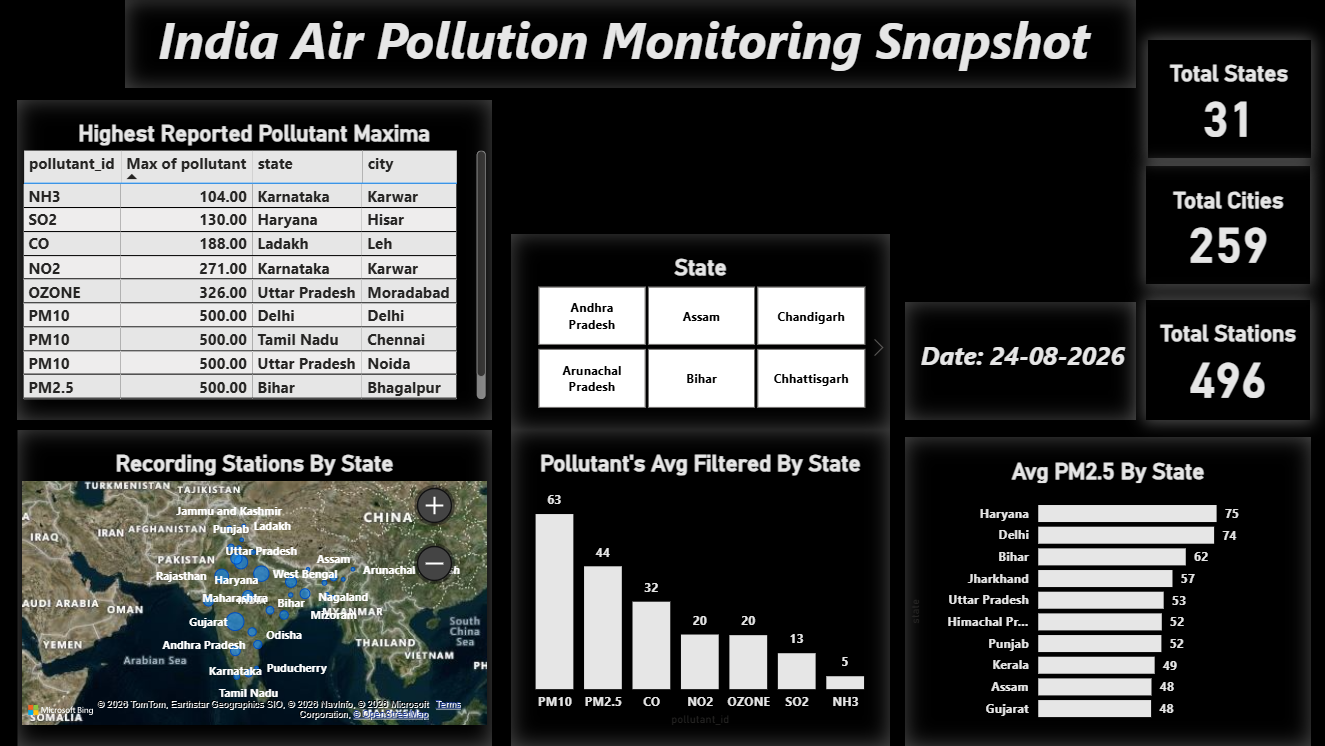

What the dashboard file says about the page in this screenshot:
{"tool":"powerbi","page":{"name":"Page 1","canvas":[1280,720],"ordinal":0},"visuals":[{"type":"card","title":"Total States","fields":{"Values":["Count(air_poll air_poll.state)"]},"box":[1107.5,38.8,157.5,113.8],"z":0},{"type":"card","title":"Total Cities","fields":{"Values":["Count(air_poll air_poll.city)"]},"box":[1106.2,160,158.8,113.8],"z":1000},{"type":"card","title":"Total Stations","fields":{"Values":["Count(air_poll air_poll.station)"]},"box":[1106.3,289.5,158,115.8],"z":2000},{"type":"map","title":"Recording Stations By State","fields":{"Category":["air_poll air_poll.state"],"Size":["Count(air_poll air_poll.station)"]},"box":[16.7,415.4,457.7,305.1],"z":3000},{"type":"clusteredBarChart","title":"Avg PM2.5 By State","fields":{"Category":["air_poll air_poll.state"],"Y":["Avg(air_poll air_poll.pollutant_avg)"]},"box":[873.1,421.8,392.3,298.7],"z":4000},{"type":"clusteredColumnChart","title":"Pollutant''s Avg Filtered By State","fields":{"Category":["air_poll air_poll.pollutant_id"],"Y":["Avg(air_poll air_poll.pollutant_avg)"]},"box":[493.6,415.4,365.4,305.1],"z":5000},{"type":"slicer","title":"State","fields":{"Values":["air_poll air_poll.state"]},"box":[493.6,225.6,365.4,189.7],"z":6000},{"type":"tableEx","title":"Highest Reported Pollutant Maxima","fields":{"Values":["air_poll air_poll.pollutant_id","Max(air_poll air_poll.pollutant_max)","air_poll air_poll.state","air_poll air_poll.city"]},"box":[16.9,96.5,457.2,308.8],"z":7000},{"type":"textbox","box":[120.6,0,976,84.5],"z":8000},{"type":"textbox","box":[873.5,292,223.2,113.4],"z":8001}]}

Visuals, with their boxes in screenshot pixels (x1, y1, x2, y2), scaled from the page's 1280x720 canvas onto the 1325x746 screenshot:
"Total States" card: <region>1146, 40, 1309, 158</region>
"Total Cities" card: <region>1145, 166, 1309, 284</region>
"Total Stations" card: <region>1145, 300, 1309, 420</region>
"Recording Stations By State" map: <region>17, 430, 491, 745</region>
"Avg PM2.5 By State" clusteredBarChart: <region>904, 437, 1310, 745</region>
"Pollutant''s Avg Filtered By State" clusteredColumnChart: <region>511, 430, 889, 745</region>
"State" slicer: <region>511, 234, 889, 430</region>
"Highest Reported Pollutant Maxima" tableEx: <region>17, 100, 491, 420</region>
textbox: <region>125, 0, 1135, 88</region>
textbox: <region>904, 303, 1135, 420</region>
